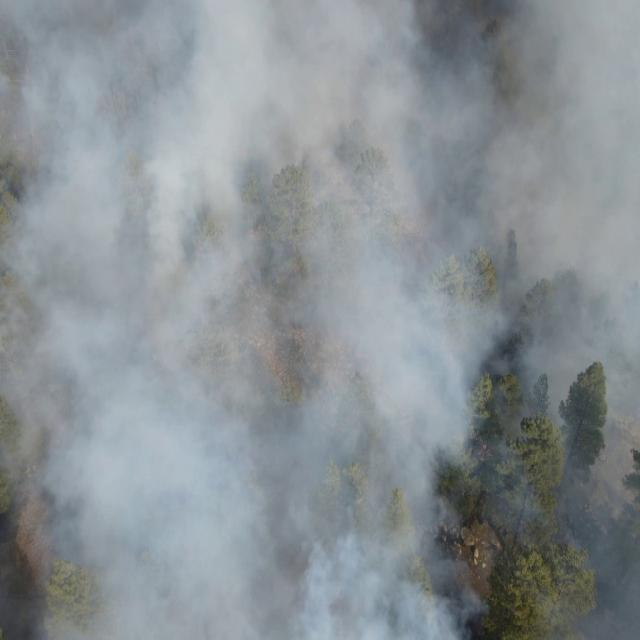fire: (475, 439, 497, 461)
smoke: (2, 0, 471, 640), (474, 0, 640, 532), (521, 535, 640, 640), (472, 591, 492, 633)
